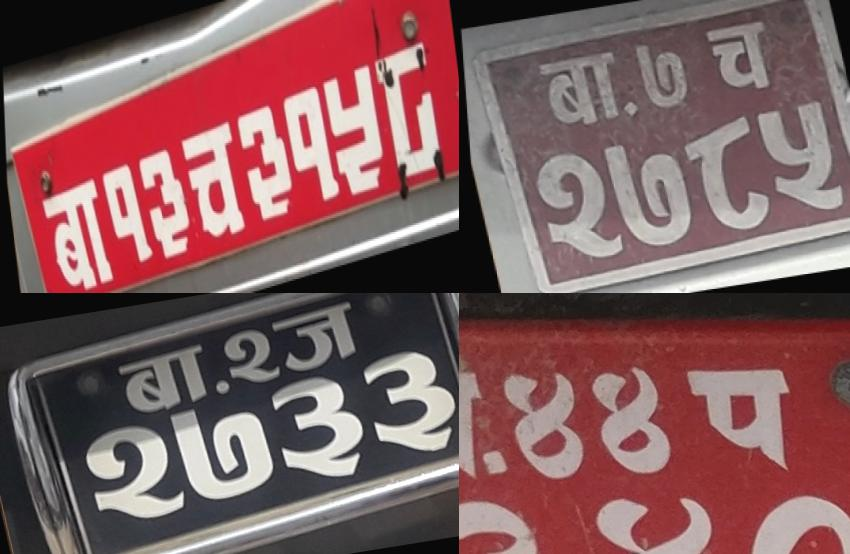0: (719, 469, 850, 554)
1: (279, 74, 342, 214), (97, 153, 154, 276)
2: (67, 412, 190, 537), (518, 142, 626, 272), (210, 321, 286, 392)
3: (263, 370, 377, 492), (355, 338, 459, 463), (459, 469, 583, 554), (232, 97, 295, 229), (134, 134, 193, 269)
4: (574, 349, 683, 486), (489, 358, 594, 486), (572, 474, 740, 554)
5: (747, 91, 850, 226), (319, 53, 389, 205)
7: (163, 394, 284, 512), (596, 128, 701, 256), (628, 33, 701, 119)
8: (671, 109, 778, 241), (370, 32, 446, 188)
ba: (33, 165, 113, 293), (530, 46, 632, 137), (109, 342, 213, 420), (459, 342, 503, 502)
cha: (178, 114, 246, 249), (698, 16, 783, 98)
ja: (264, 300, 376, 378)
pa: (668, 340, 815, 494)
